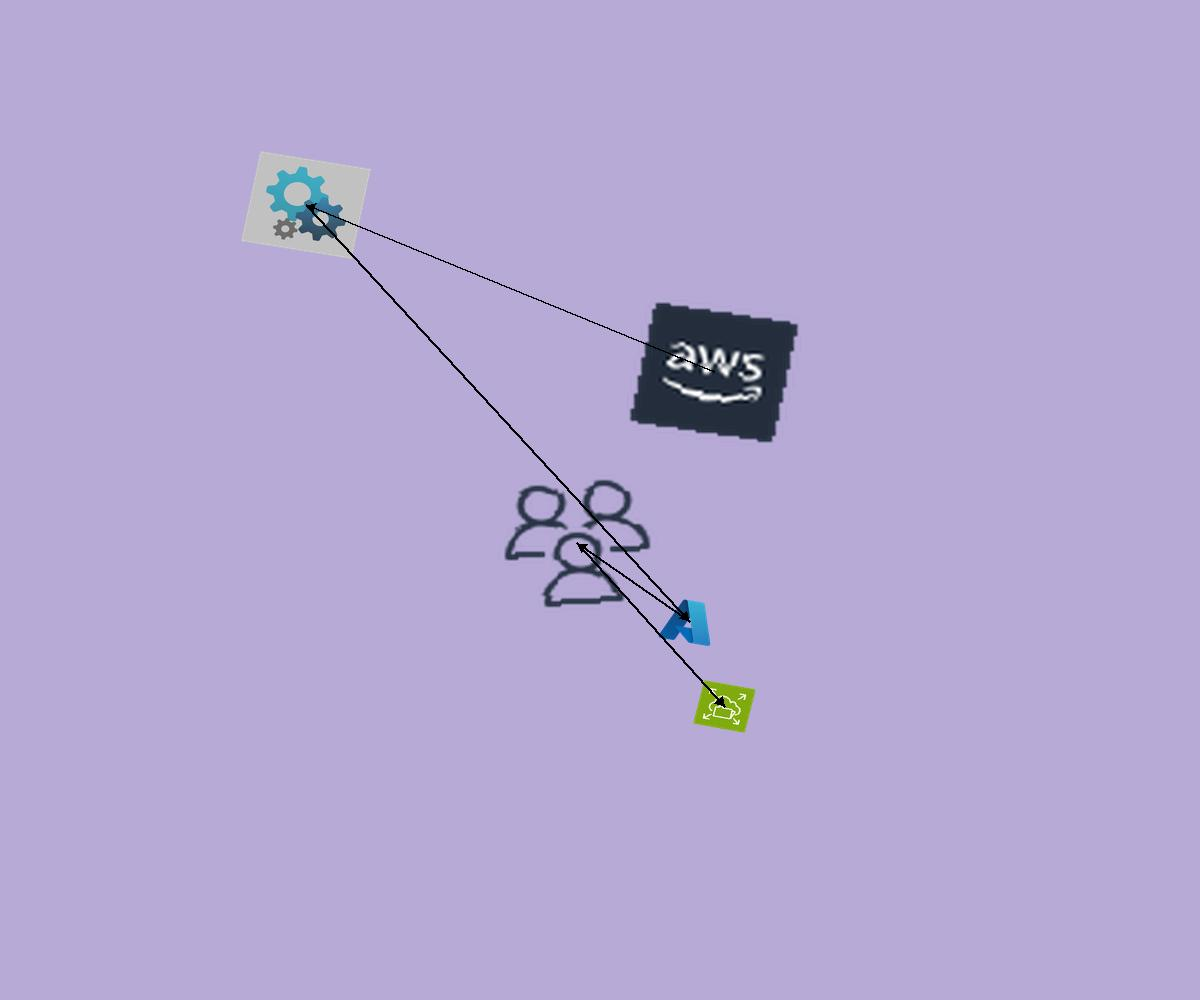AWS-Cloud-logo: (627, 300, 801, 445)
AWS-EFS: (693, 680, 756, 733)
AWS-Res_Users: (492, 472, 663, 615)
Azure_api: (241, 151, 371, 259)
Azure_services: (655, 593, 723, 650)
